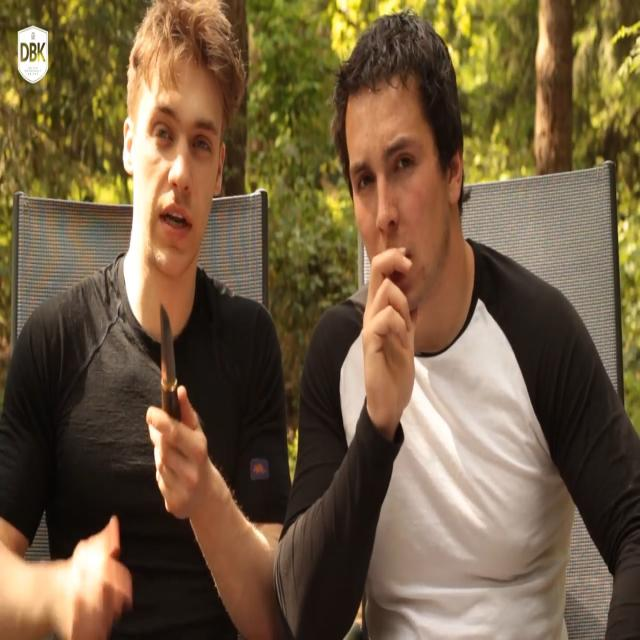knife: (159, 303, 179, 416)
